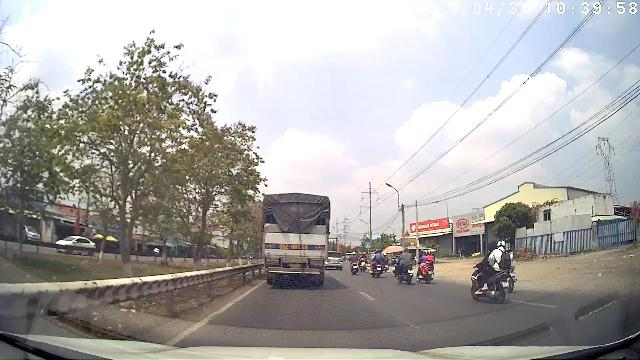423a-duong-nguoi-di-bo-sang-ngang-1: (365, 242, 371, 249)
